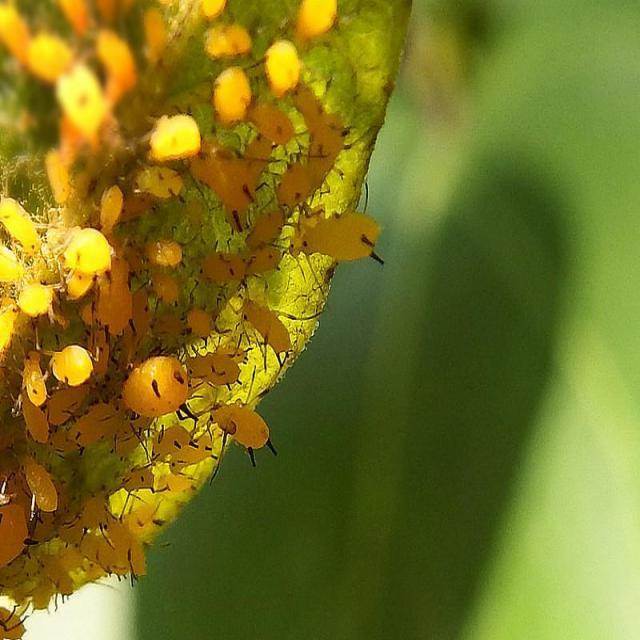aphid: (272, 198, 409, 276), (208, 292, 304, 362), (201, 384, 294, 456), (107, 352, 196, 426), (135, 232, 193, 316), (147, 112, 201, 162), (60, 227, 112, 276), (50, 344, 94, 388)
